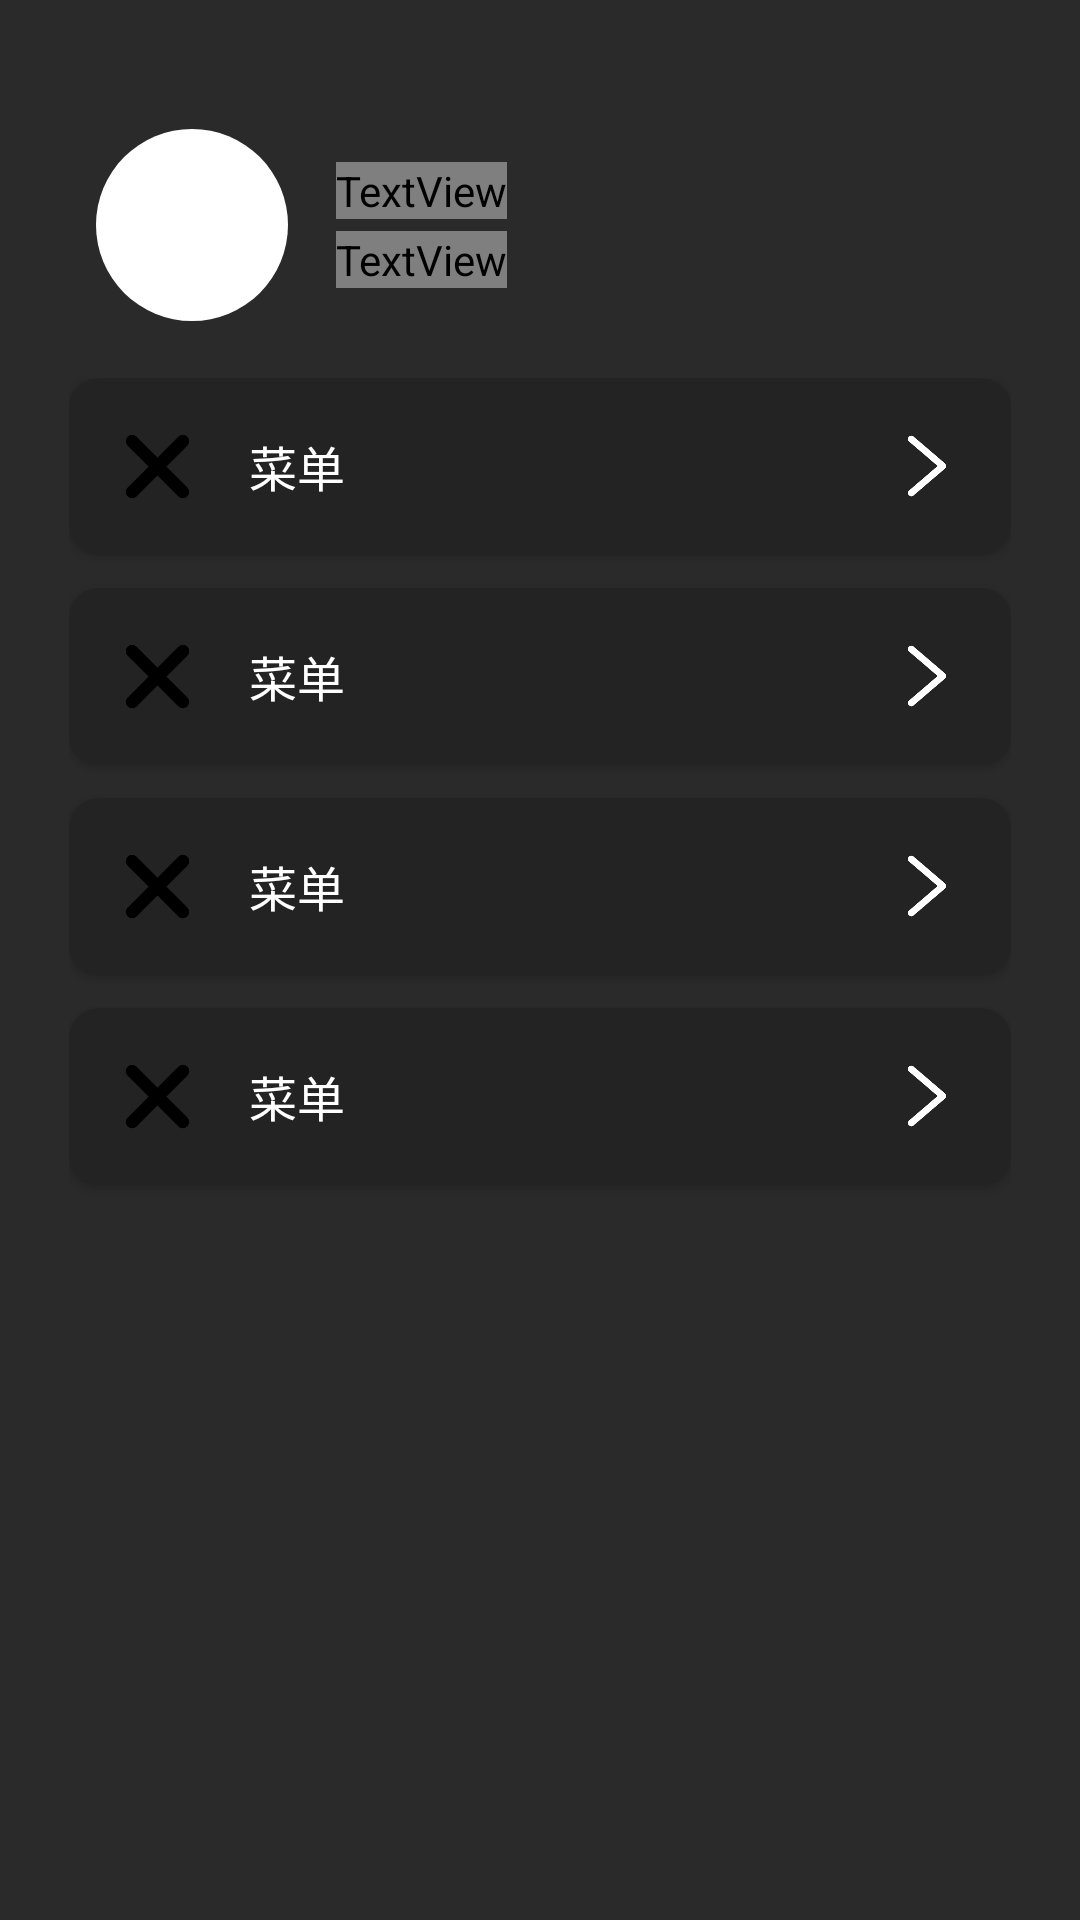

Locate icon controls on the screen. Image size 1080px x 1920px, boxes as (x1, y1, x2, y2).
right: (908, 435, 946, 497), (908, 645, 946, 707), (908, 855, 946, 917), (908, 1065, 946, 1127)
